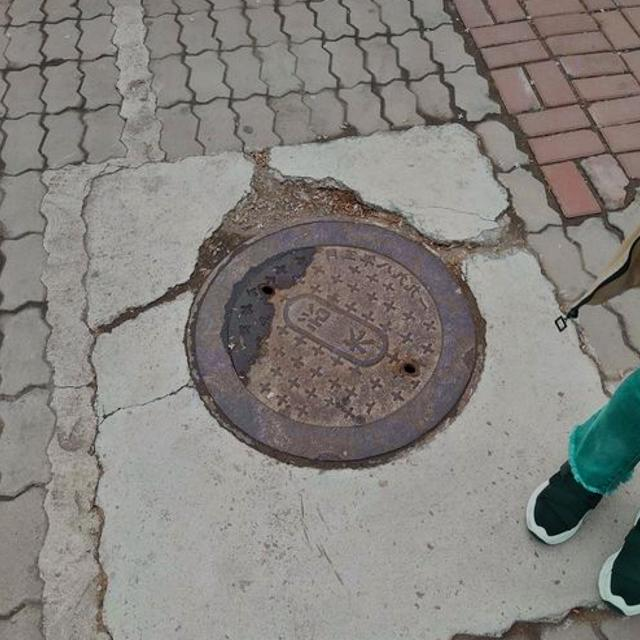circle: (110, 157, 544, 510)
